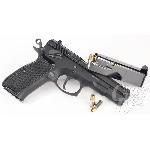Pistol: (3, 37, 133, 109)
